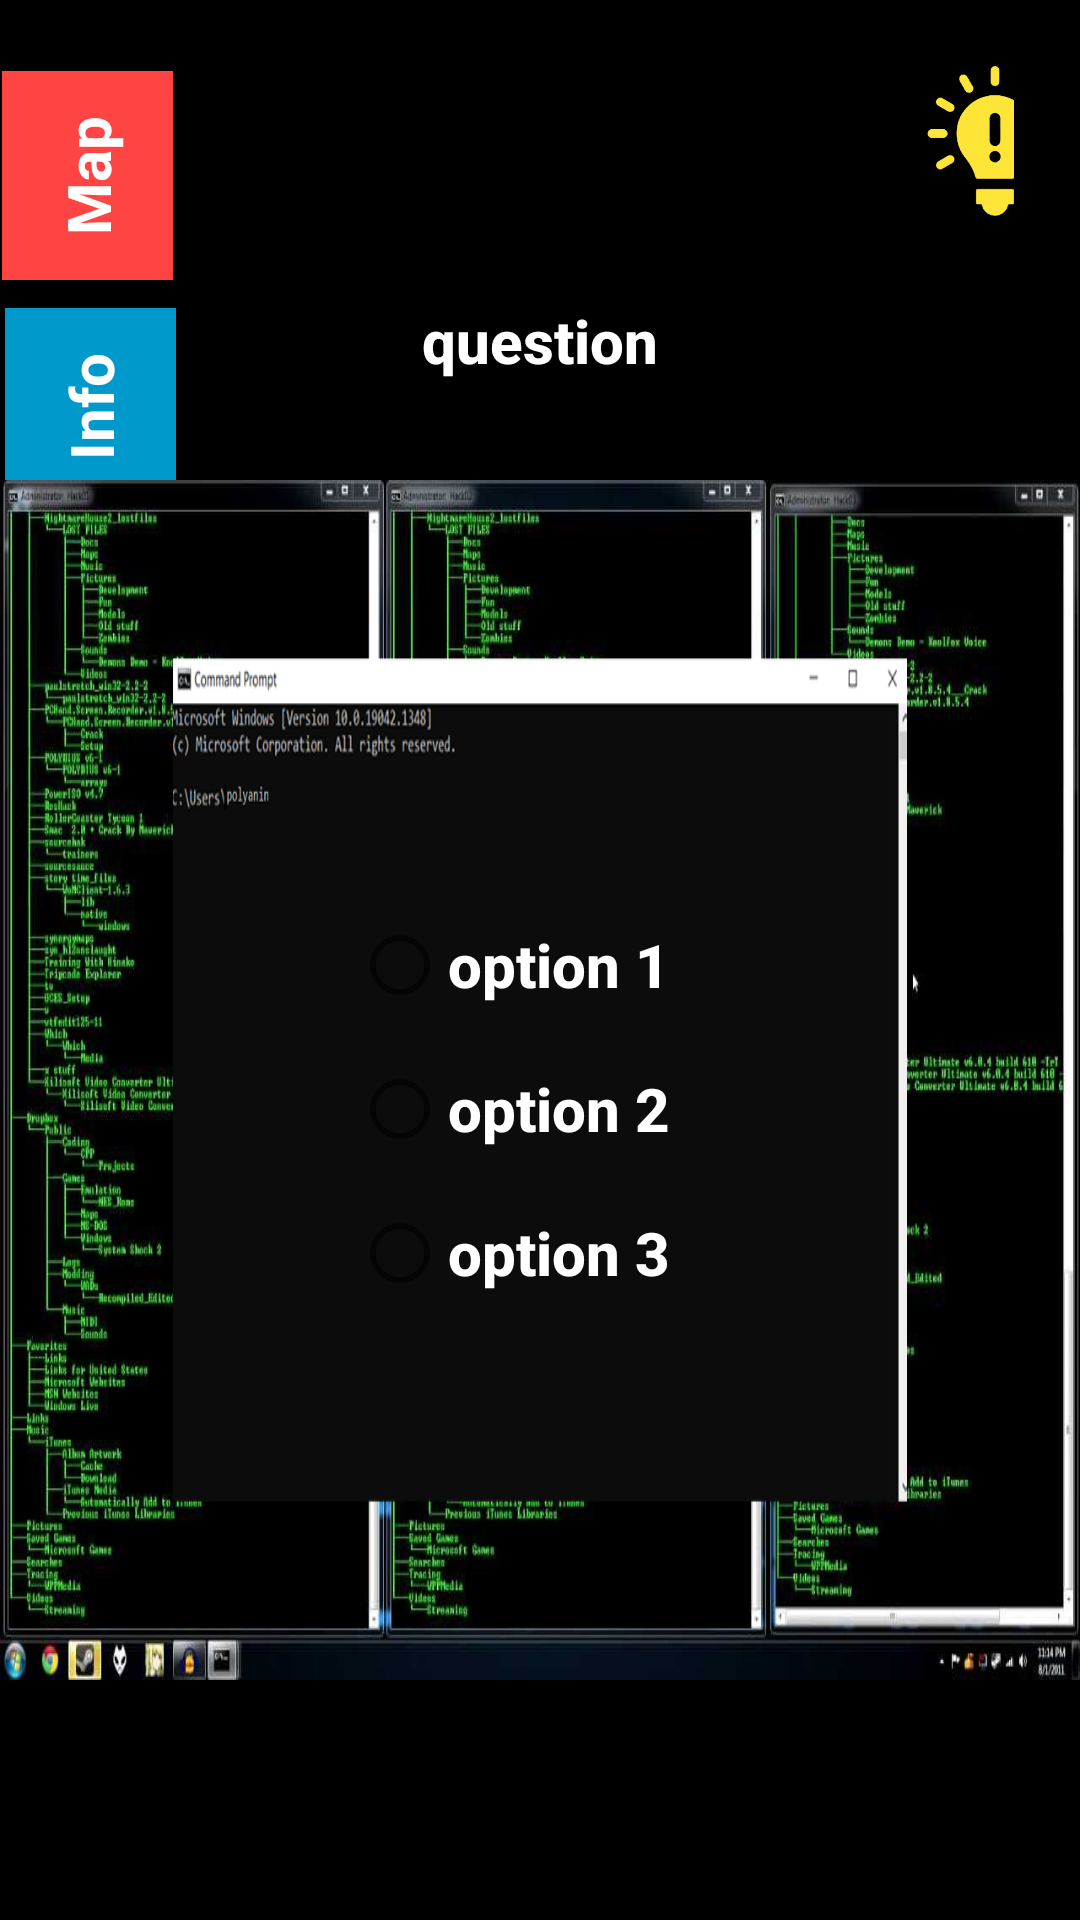

Locate icon controls on the screen. Image size 1080×1920, boxes as [x1,y1,x2,y2].
lightbulb: [927,66,1014,216]
